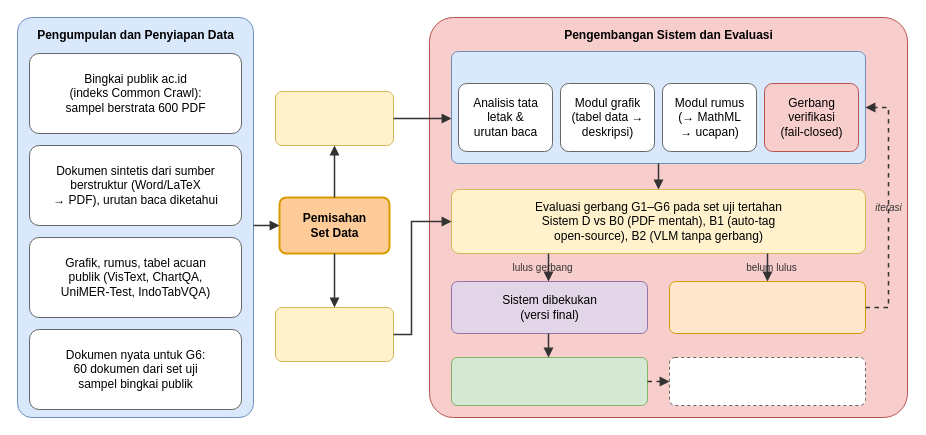
Image size: 926x435. Some labels were removed from this diagram. The box of each missing label's shape, as (x1, y1, x2, y2) in pixels:
Analisis kesalahan & perbaikan iteratif: (668, 280, 866, 334)
G7: uji pengguna tunanetra dan ULD (ditunda): (668, 356, 866, 406)
Hasil dan pembahasan (Bab IV, tahap final): (450, 356, 648, 406)
Pengembangan Pipeline: (450, 50, 866, 164)
Set pengembangan (penyetelan): (274, 90, 394, 146)
Set uji tertahan (held-out): (274, 306, 394, 362)
